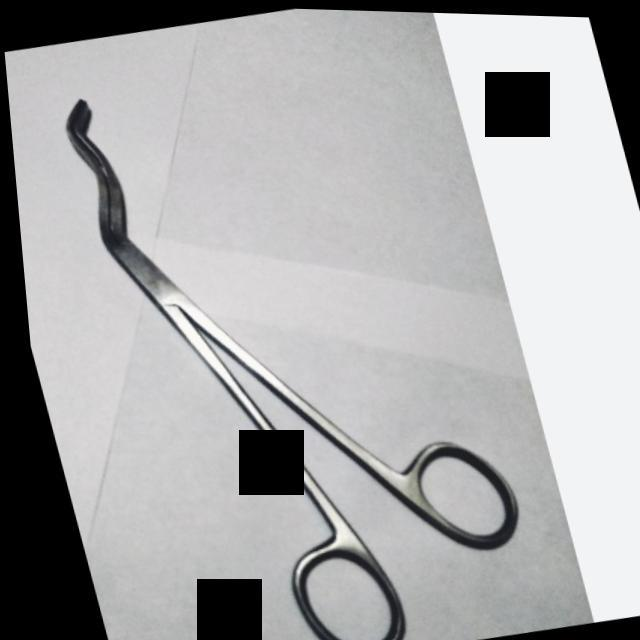Cheatle Forceps: (38, 29, 540, 640)
